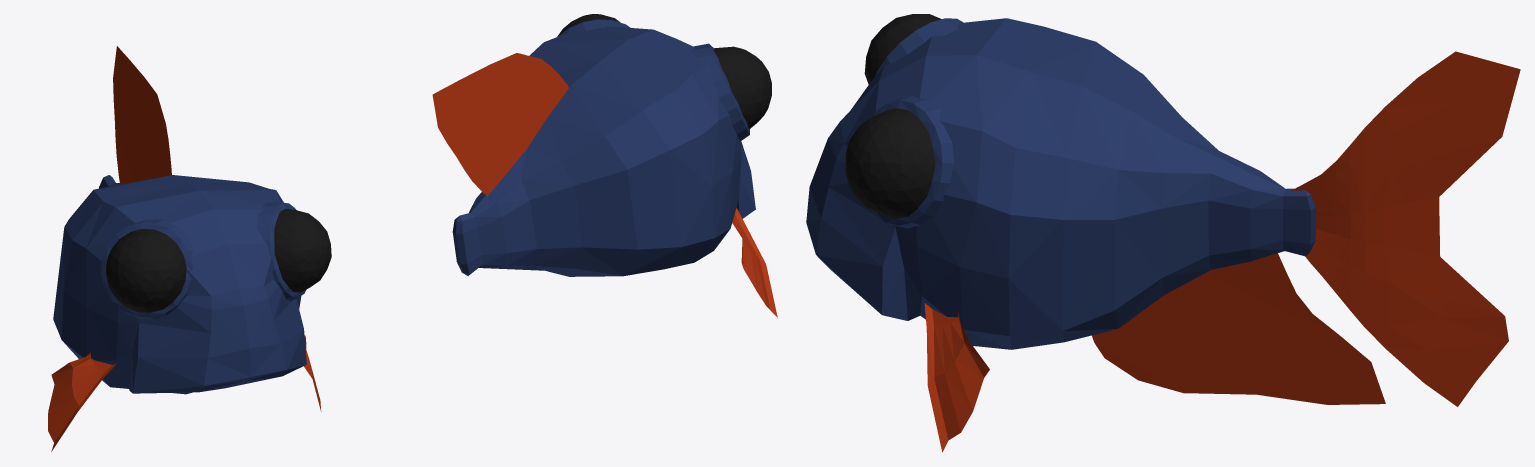
File: betta.glb
3 views of the same model, side by side, from view 1: azimuth 30°, elevation 25°; view 2: azimuth 150°, elevation 25°; view 3: azimuth 270°, elevation 25° (orthographic). The views are drawn at different scales.
Visible parts, largest first — view 1: Betta_baked; view 2: Betta_baked; view 3: Betta_baked.
Part boxes in pixels (left/top/right/bottom): Betta_baked: left=48, top=46, right=331, bottom=451; Betta_baked: left=432, top=14, right=777, bottom=317; Betta_baked: left=806, top=14, right=1520, bottom=452.
Size of the model in its own units: 3.05 by 3.34 by 5.54.
